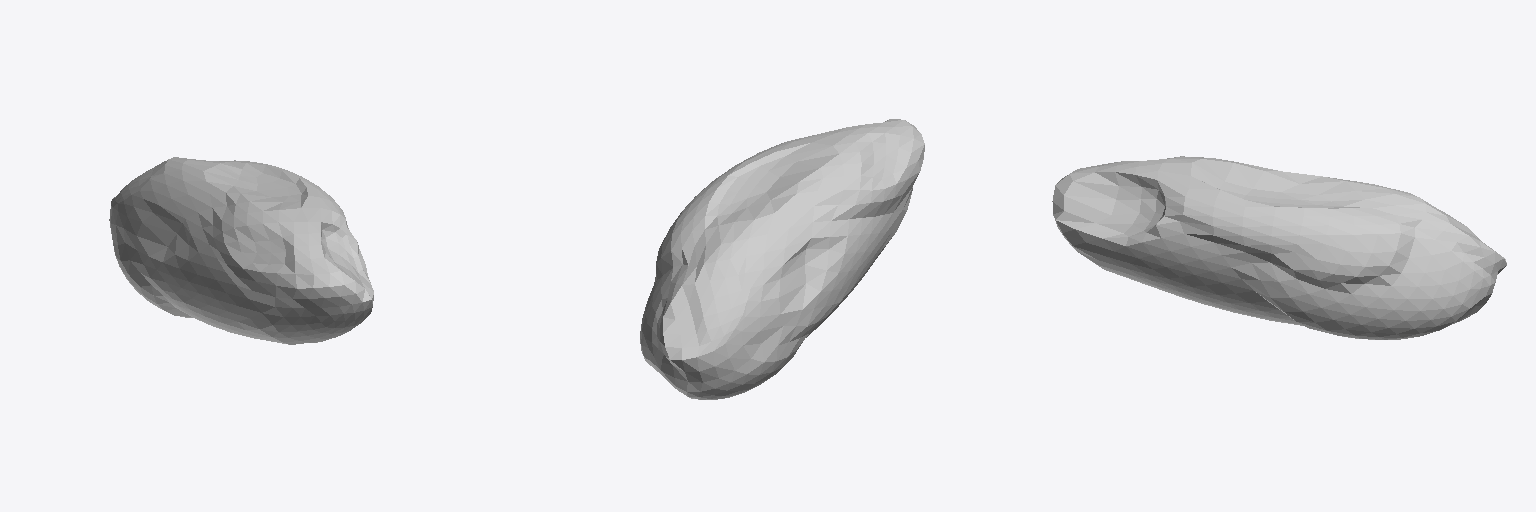
The model's file is asteroideArch.obj.
The picture shows the model from 3 angles: view 1: azimuth 30°, elevation 25°; view 2: azimuth 150°, elevation 25°; view 3: azimuth 270°, elevation 25°; orthographic projection.
Visible parts, largest first — view 1: Icosphere; view 2: Icosphere; view 3: Icosphere.
Part boxes in pixels (left/top/right/bottom): Icosphere: left=109, top=157, right=373, bottom=344; Icosphere: left=640, top=119, right=924, bottom=399; Icosphere: left=1052, top=156, right=1506, bottom=339.
Bounding box in the file's own units: 0.9043 × 0.9692 × 2.4.